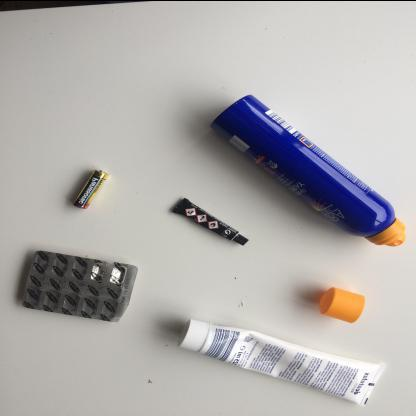diger: (74, 169, 110, 209)
metal: (210, 94, 409, 248), (178, 319, 388, 408), (171, 198, 251, 246)
plastik: (23, 250, 140, 323), (319, 287, 367, 325)
